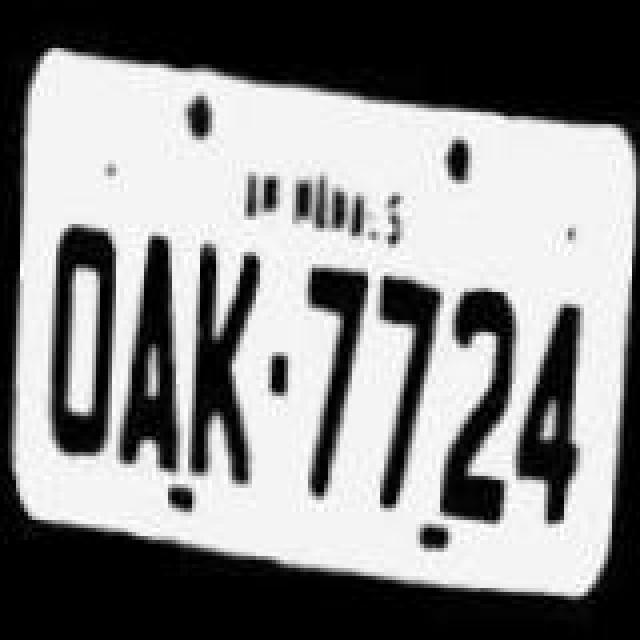2: (432, 278, 524, 522)
4: (510, 278, 598, 546)
7: (360, 258, 444, 522), (286, 254, 374, 502)
A: (110, 224, 198, 484)
K: (178, 228, 266, 488)
O: (34, 196, 134, 476)
